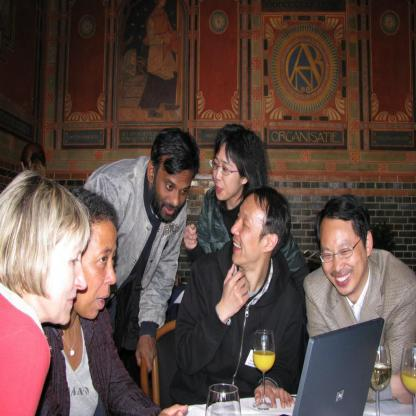board: (279, 318, 381, 416)
